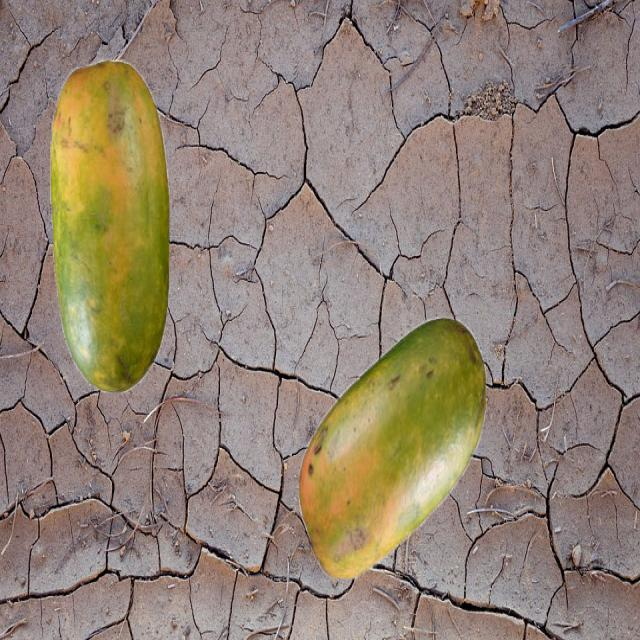Pepaya rippen: (300, 318, 490, 574), (47, 69, 176, 384)
